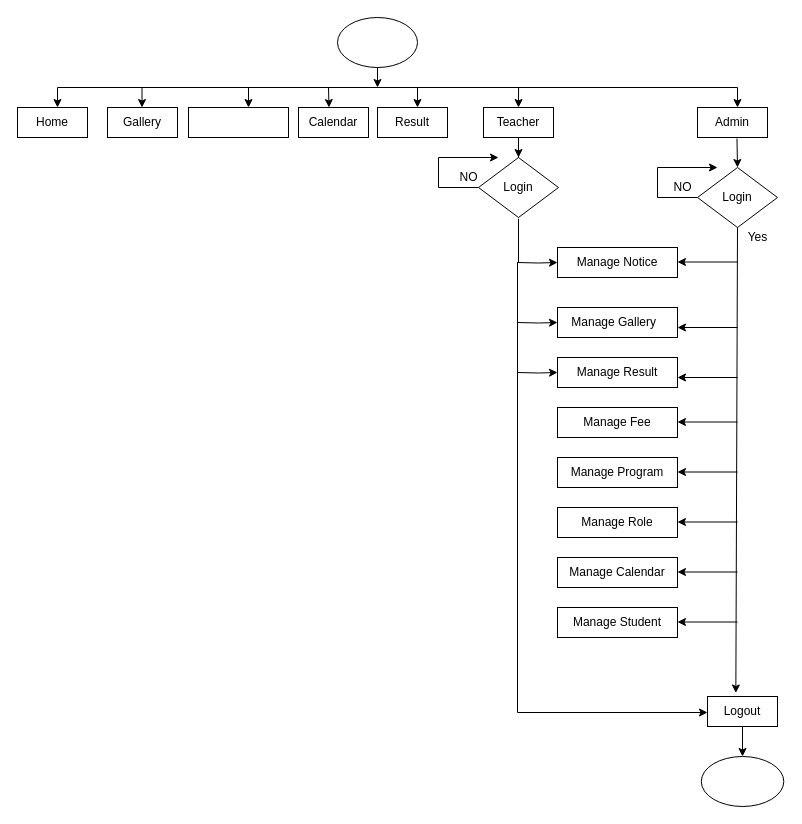
This 802x824 diagram has some shape labels left out. The shapes that lost their labels are listed below. From the top down, each one's centre as x and y in pixels, then its label:
pixel 377 42: Start
pixel 238 122: Notice and Announcement
pixel 742 781: Stop
